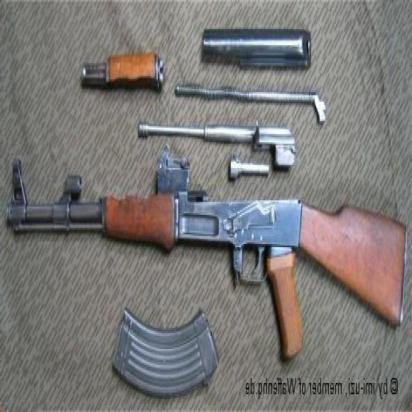Gun: (2, 156, 412, 368)
